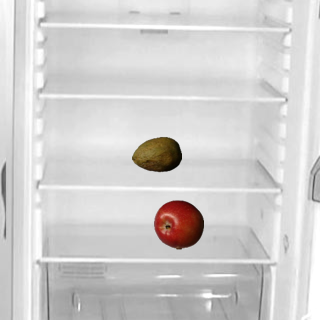Apple Braeburn: (153, 199, 203, 249)
Papaya: (131, 129, 181, 179)
